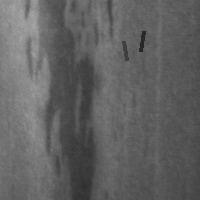inclusion: (22, 1, 100, 198), (102, 1, 118, 48), (138, 29, 145, 53), (121, 39, 128, 62)
